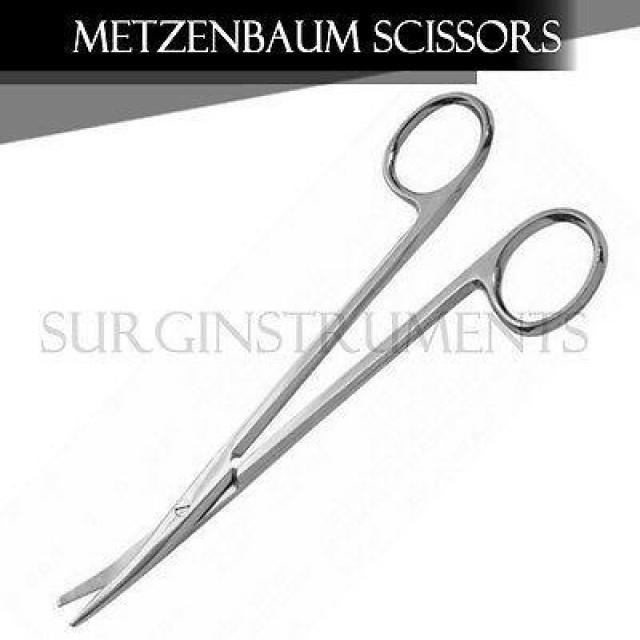Mayo_metz: (51, 88, 614, 636)
